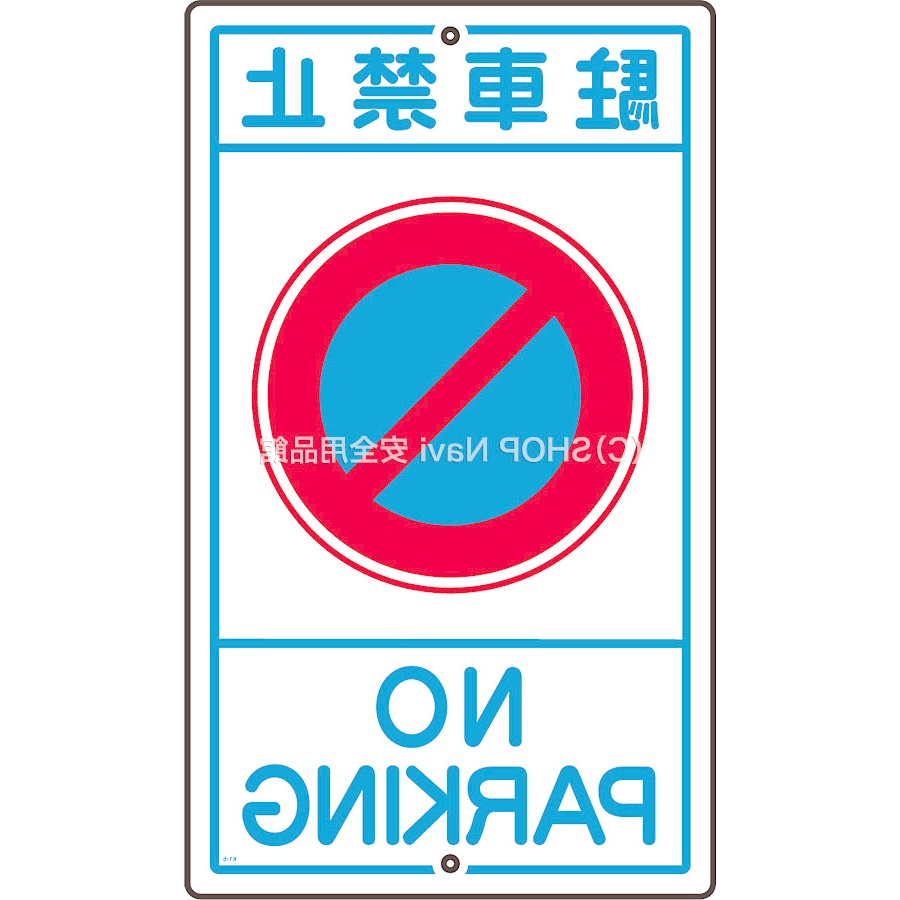Prohibition_sign: (238, 177, 685, 619)
